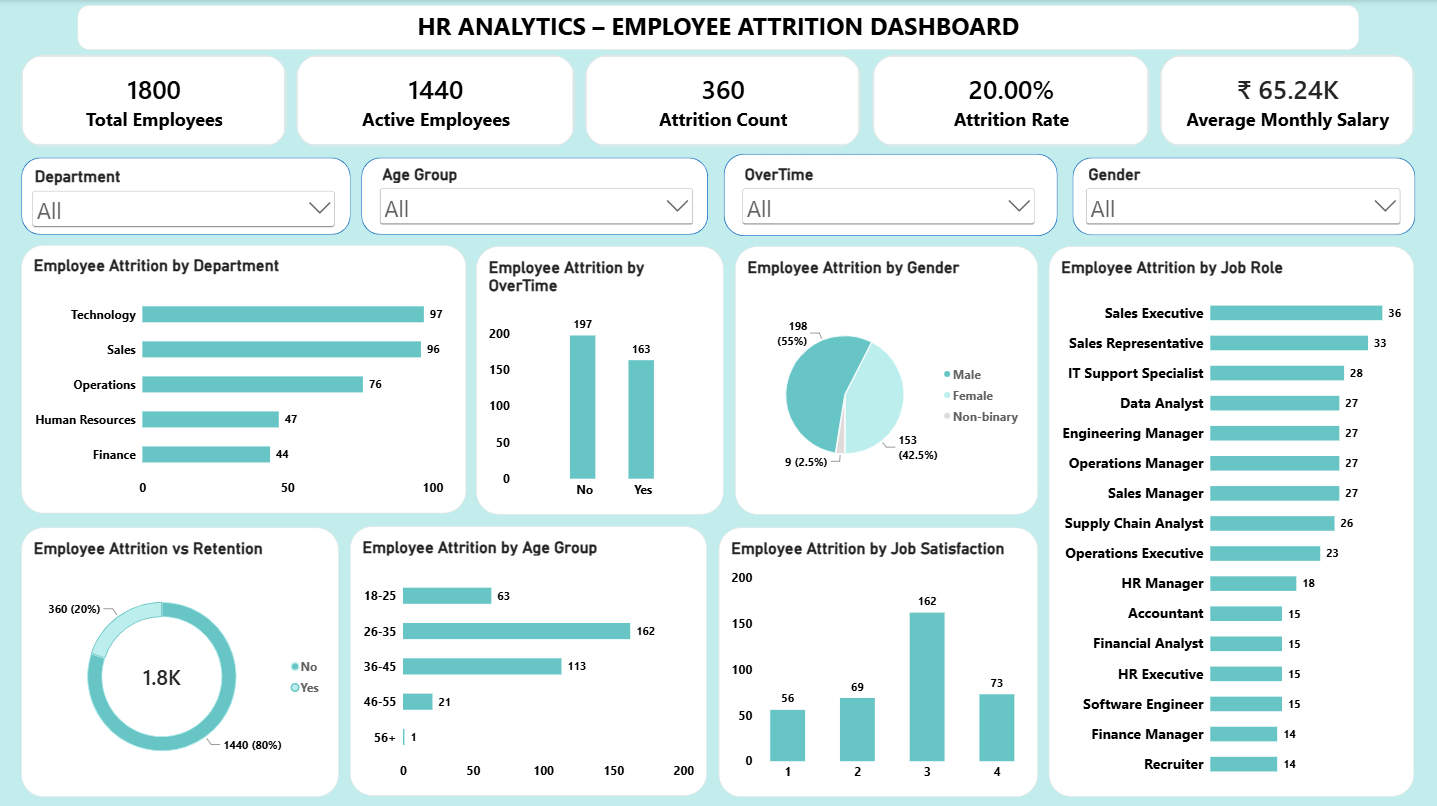

The page's visual inventory and layout, read from the dashboard file:
{"tool":"powerbi","page":{"name":"Page 1","canvas":[1920,1080],"ordinal":0},"visuals":[{"type":"shape","box":[1432,210,458,104],"z":0},{"type":"shape","box":[966,206,446,110],"z":1000},{"type":"shape","box":[483.3,210,463.3,103.3],"z":2000},{"type":"cardVisual","fields":{"Data":["CountNonNull(PowerBI_HR_Analytics_Attrition_Dataset.EmployeeID)"]},"box":[28.4,73.5,354,122],"z":3000},{"type":"shape","box":[28.3,210,440,103.3],"z":4000},{"type":"cardVisual","fields":{"Data":["PowerBI_HR_Analytics_Attrition_Dataset.Attrition Count"]},"box":[782,74,368,122],"z":5000},{"type":"cardVisual","fields":{"Data":["PowerBI_HR_Analytics_Attrition_Dataset.Attrition Rate"]},"box":[1166,74,370,122],"z":6000},{"type":"cardVisual","fields":{"Data":["PowerBI_HR_Analytics_Attrition_Dataset.Active Employees"]},"box":[396,74,372,122],"z":7000},{"type":"cardVisual","fields":{"Data":["PowerBI_HR_Analytics_Attrition_Dataset.Average Monthly Salary"]},"box":[1550,74,340,122],"z":8000},{"type":"clusteredBarChart","title":"\tEmployee Attrition by Department","fields":{"Category":["PowerBI_HR_Analytics_Attrition_Dataset.Department"],"Y":["PowerBI_HR_Analytics_Attrition_Dataset.Attrition Count"]},"box":[28,328,594,358],"z":9000},{"type":"clusteredBarChart","title":"Employee Attrition by Age Group","fields":{"Category":["PowerBI_HR_Analytics_Attrition_Dataset.Age Group"],"Y":["PowerBI_HR_Analytics_Attrition_Dataset.Attrition Count"]},"box":[468.3,703.3,476.7,360],"z":10000},{"type":"clusteredBarChart","title":"Employee Attrition by Job Role","fields":{"Category":["PowerBI_HR_Analytics_Attrition_Dataset.JobRole"],"Y":["PowerBI_HR_Analytics_Attrition_Dataset.Attrition Count"]},"box":[1401.7,328.3,488.3,735],"z":11000},{"type":"pieChart","title":"Employee Attrition by Gender","fields":{"Category":["PowerBI_HR_Analytics_Attrition_Dataset.Gender"],"Y":["PowerBI_HR_Analytics_Attrition_Dataset.Attrition Count"]},"box":[981.7,328.3,405,358.3],"z":12000},{"type":"columnChart","title":"Employee Attrition by OverTime","fields":{"Category":["PowerBI_HR_Analytics_Attrition_Dataset.OverTime"],"Y":["PowerBI_HR_Analytics_Attrition_Dataset.Attrition Count"]},"box":[636.7,328.3,330,358.3],"z":13000},{"type":"columnChart","title":"Employee Attrition by Job Satisfaction","fields":{"Category":["PowerBI_HR_Analytics_Attrition_Dataset.JobSatisfaction"],"Y":["PowerBI_HR_Analytics_Attrition_Dataset.Attrition Count"]},"box":[960,704,426,360],"z":14000},{"type":"slicer","fields":{"Values":["PowerBI_HR_Analytics_Attrition_Dataset.Department"]},"box":[38,224,414,98],"z":15000},{"type":"slicer","fields":{"Values":["PowerBI_HR_Analytics_Attrition_Dataset.Age Group"]},"box":[502,220,428,94],"z":16000},{"type":"slicer","fields":{"Values":["PowerBI_HR_Analytics_Attrition_Dataset.OverTime"]},"box":[986,220,400,94],"z":17000},{"type":"slicer","fields":{"Values":["PowerBI_HR_Analytics_Attrition_Dataset.Gender"]},"box":[1446,220,430,94],"z":18000},{"type":"textbox","box":[0,930,689,150],"z":19000},{"type":"textbox","box":[104,7,1712,60],"z":20000},{"type":"donutChart","title":"Employee Attrition vs Retention","fields":{"Category":["PowerBI_HR_Analytics_Attrition_Dataset.Attrition"],"Y":["Count(PowerBI_HR_Analytics_Attrition_Dataset.EmployeeID)"]},"box":[28,704,424,360],"z":21000}]}

Visuals, with their boxes in screenshot pixels (x1, y1, x2, y2), scaled from the page's 1920x1080 canvas onto the 1437x806 screenshot:
shape: Rect(1072, 157, 1415, 234)
shape: Rect(723, 154, 1057, 236)
shape: Rect(362, 157, 708, 234)
cardVisual - CountNonNull(PowerBI_HR_Analytics_Attrition_Dataset.EmployeeID): Rect(21, 55, 286, 146)
shape: Rect(21, 157, 350, 234)
cardVisual - PowerBI_HR_Analytics_Attrition_Dataset.Attrition Count: Rect(585, 55, 861, 146)
cardVisual - PowerBI_HR_Analytics_Attrition_Dataset.Attrition Rate: Rect(873, 55, 1150, 146)
cardVisual - PowerBI_HR_Analytics_Attrition_Dataset.Active Employees: Rect(296, 55, 575, 146)
cardVisual - PowerBI_HR_Analytics_Attrition_Dataset.Average Monthly Salary: Rect(1160, 55, 1415, 146)
"	Employee Attrition by Department" clusteredBarChart: Rect(21, 245, 466, 512)
"Employee Attrition by Age Group" clusteredBarChart: Rect(350, 525, 707, 794)
"Employee Attrition by Job Role" clusteredBarChart: Rect(1049, 245, 1415, 794)
"Employee Attrition by Gender" pieChart: Rect(735, 245, 1038, 512)
"Employee Attrition by OverTime" columnChart: Rect(477, 245, 724, 512)
"Employee Attrition by Job Satisfaction" columnChart: Rect(718, 525, 1037, 794)
slicer - PowerBI_HR_Analytics_Attrition_Dataset.Department: Rect(28, 167, 338, 240)
slicer - PowerBI_HR_Analytics_Attrition_Dataset.Age Group: Rect(376, 164, 696, 234)
slicer - PowerBI_HR_Analytics_Attrition_Dataset.OverTime: Rect(738, 164, 1037, 234)
slicer - PowerBI_HR_Analytics_Attrition_Dataset.Gender: Rect(1082, 164, 1404, 234)
textbox: Rect(0, 694, 516, 805)
textbox: Rect(78, 5, 1359, 50)
"Employee Attrition vs Retention" donutChart: Rect(21, 525, 338, 794)
